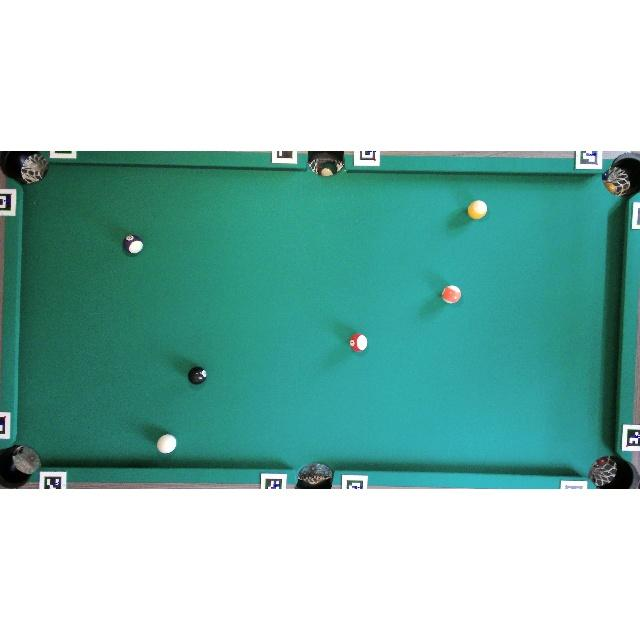cue ball: (156, 433, 178, 455)
other: (440, 283, 462, 306), (467, 199, 488, 219), (123, 234, 143, 254), (188, 366, 207, 385), (350, 333, 368, 352)
